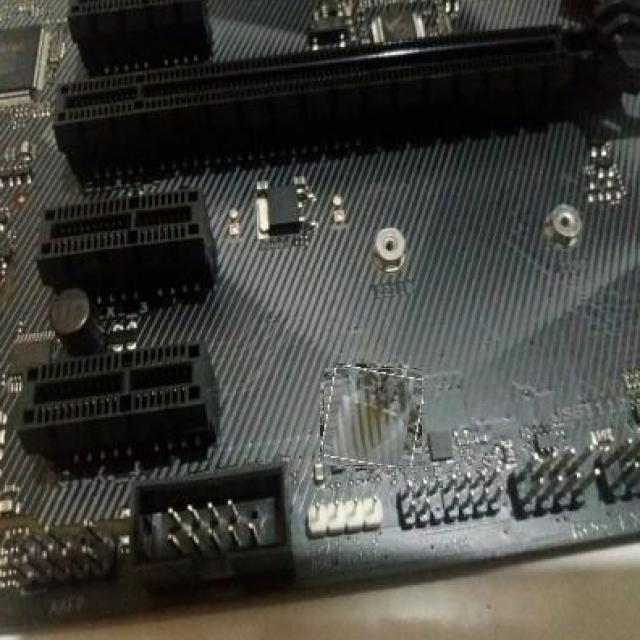damged: (325, 368, 422, 466)
